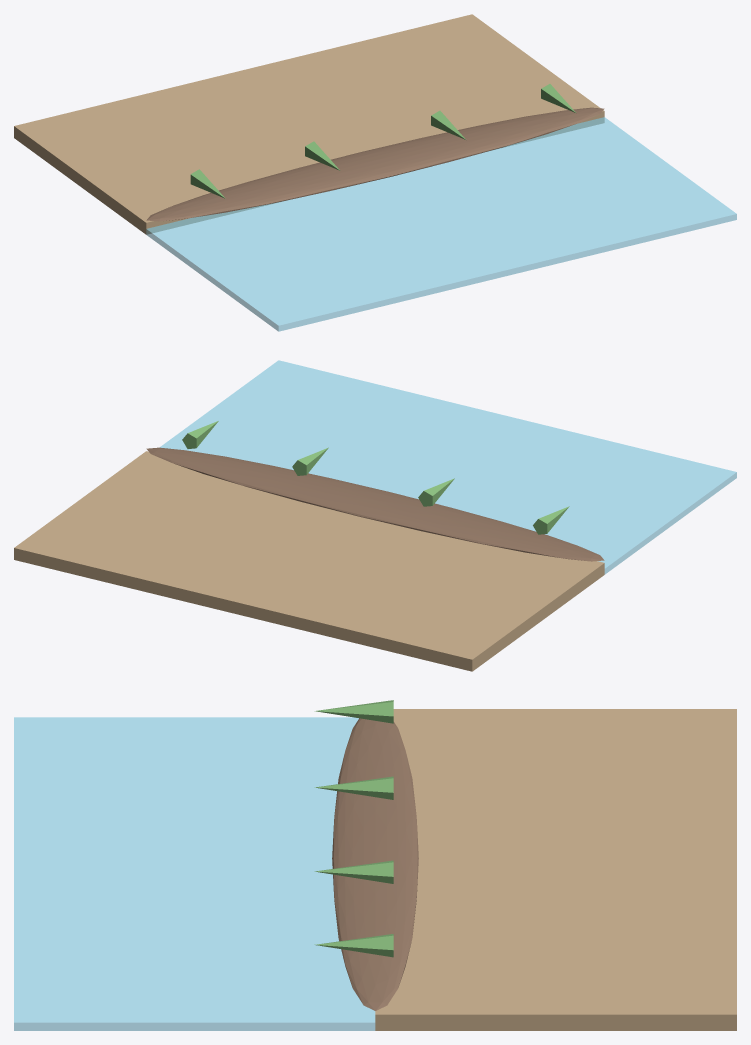
Rendered from shore_edge_straight_v1.glb.
3 views of the same model, one above another, from view 1: azimuth 30°, elevation 25°; view 2: azimuth 150°, elevation 25°; view 3: azimuth 270°, elevation 25° (orthographic). The views are drawn at different scales.
Parts seen in each view (by area): view 1: water_half, shore_half, wet_mud_transition; view 2: shore_half, water_half, wet_mud_transition; view 3: shore_half, water_half, wet_mud_transition, shore_grass_3, shore_grass_1, shore_grass_0, shore_grass_2.
Part boxes in pixels (left/top/right/bottom): water_half: left=146, top=117, right=736, bottom=331; shore_half: left=14, top=14, right=604, bottom=234; wet_mud_transition: left=146, top=107, right=604, bottom=221; shore_half: left=14, top=451, right=604, bottom=671; water_half: left=160, top=360, right=736, bottom=574; wet_mud_transition: left=146, top=447, right=604, bottom=561; shore_half: left=375, top=709, right=736, bottom=1030; water_half: left=14, top=717, right=375, bottom=1030; wet_mud_transition: left=332, top=718, right=418, bottom=1010; shore_grass_3: left=314, top=934, right=393, bottom=957; shore_grass_1: left=314, top=776, right=393, bottom=799; shore_grass_0: left=314, top=700, right=393, bottom=723; shore_grass_2: left=314, top=860, right=393, bottom=883.
Bounding box in the file's own units: 2 × 0.1933 × 2.
